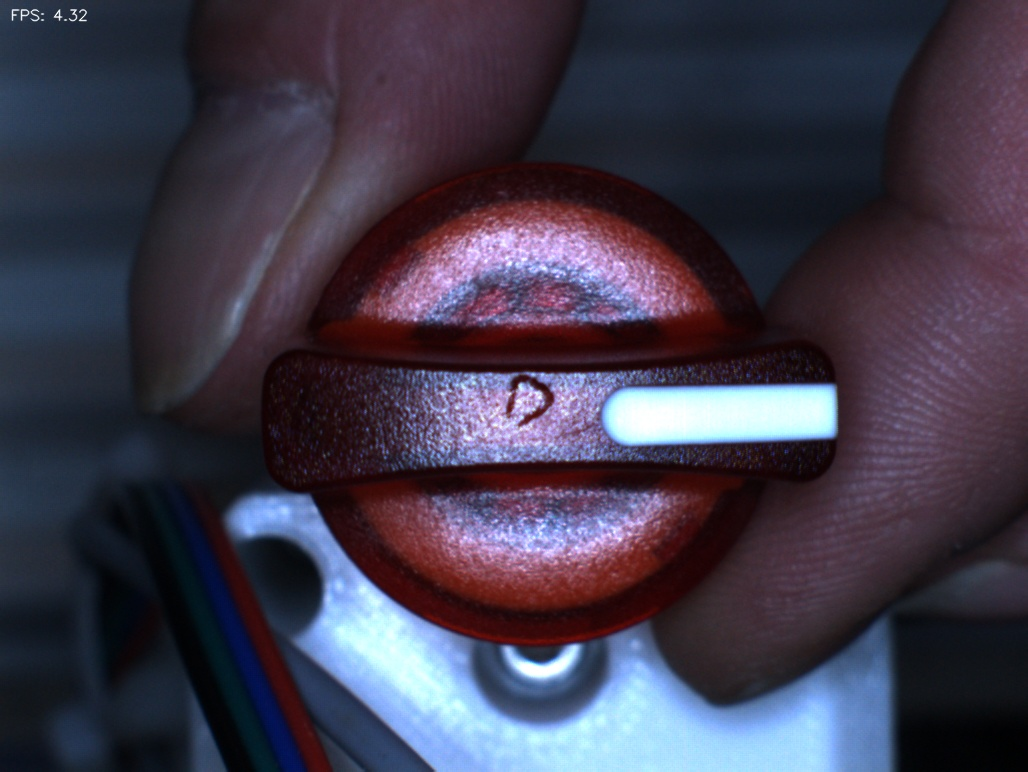Choc: (488, 359, 570, 441)
